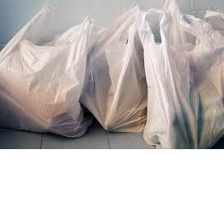plastic_bag: (76, 0, 190, 133), (0, 2, 100, 141), (135, 3, 224, 149)
